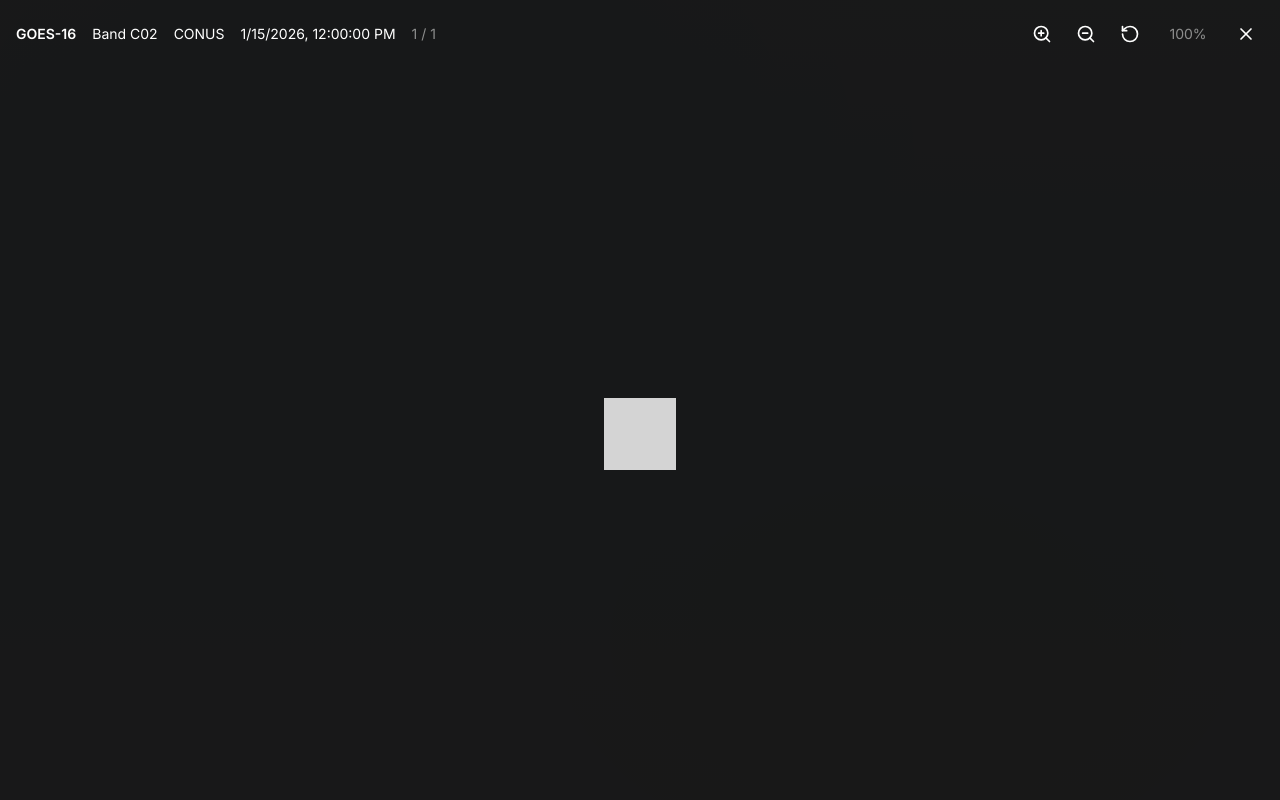
Scenario: ImageViewer navigation integration › zoom controls update the displayed zoom percentage
Expected: the text "100%" is shown, [1169,25,1206,42]
Note: Click zoom in
Click the button named "Zoom in": (1042, 34) [1024,16,1060,52]
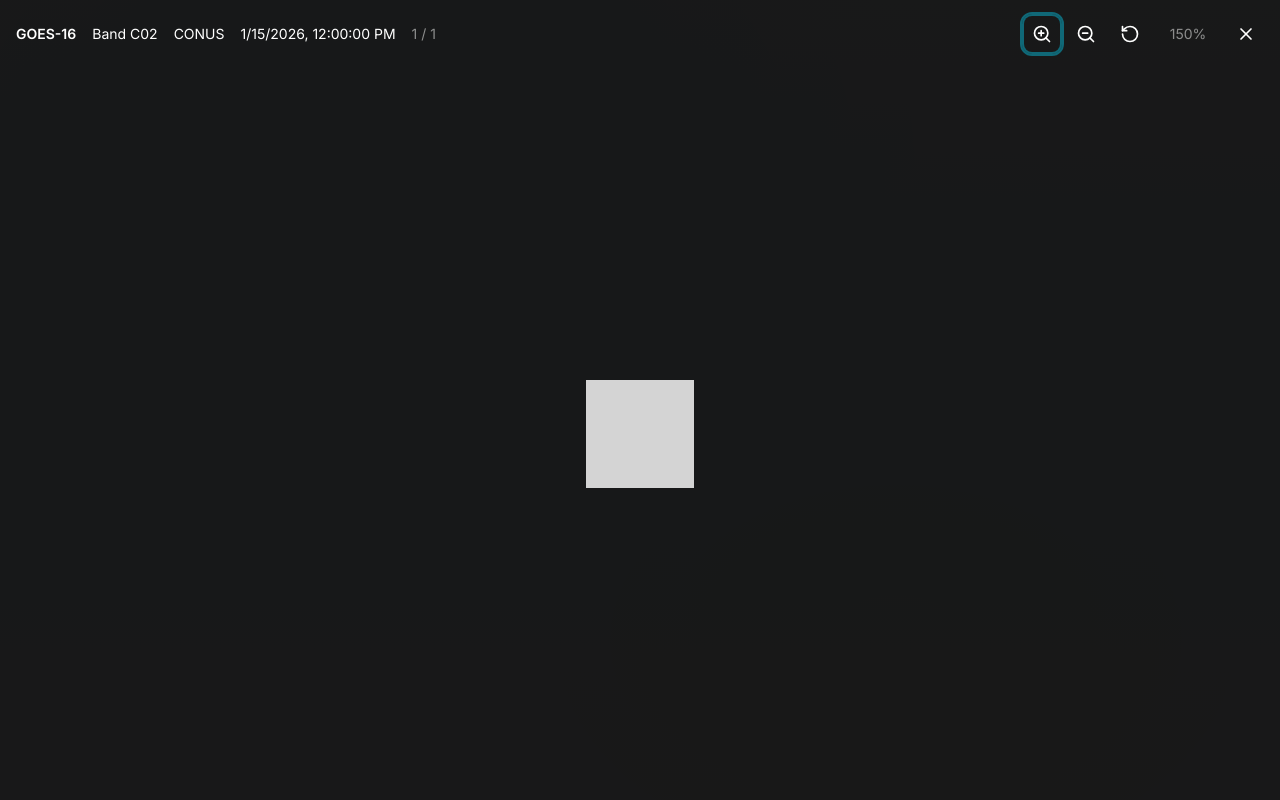
Expected: the text "150%" is shown, [1170,25,1206,42]
Note: Click zoom out
Click the button named "Zoom out": (1086, 34) [1068,16,1104,52]
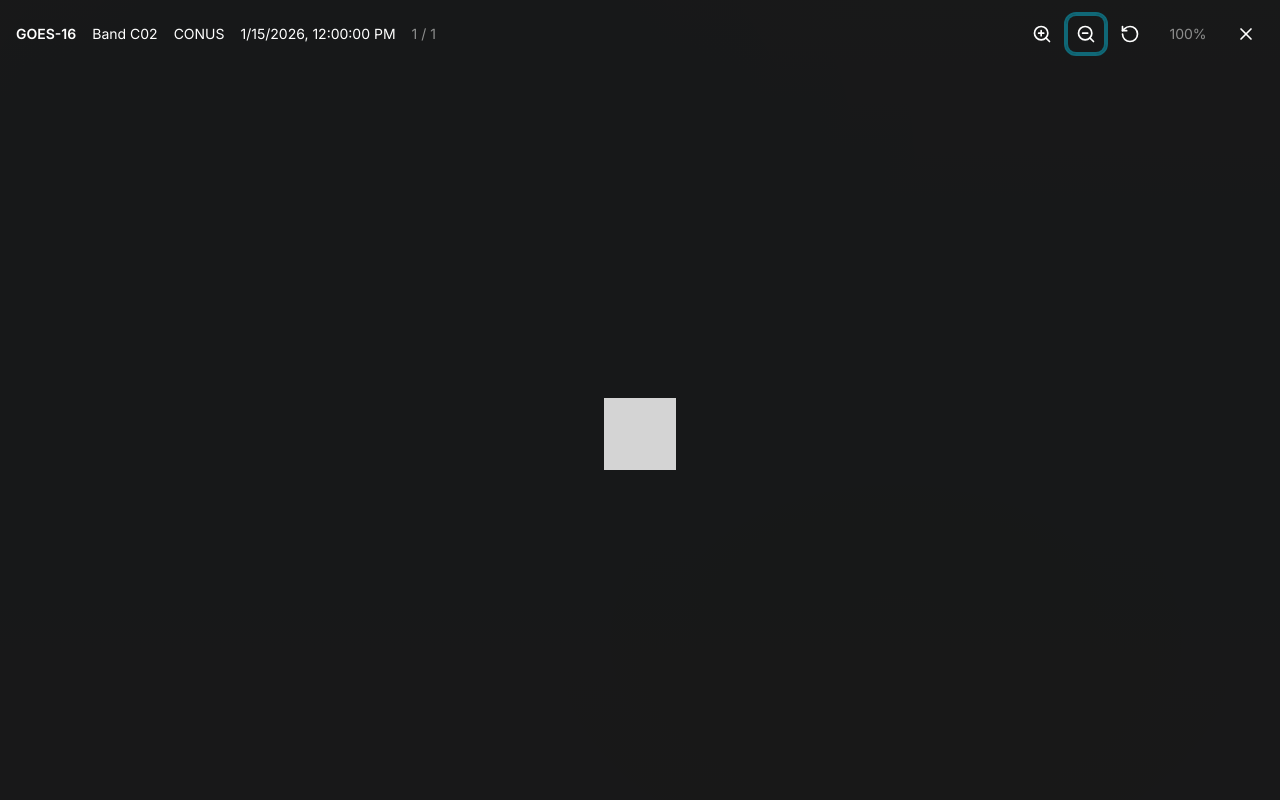
Expected: the text "100%" is shown, [1169,25,1206,42]
Note: Click reset
Click the button named "Zoom in": (1042, 34) [1024,16,1060,52]
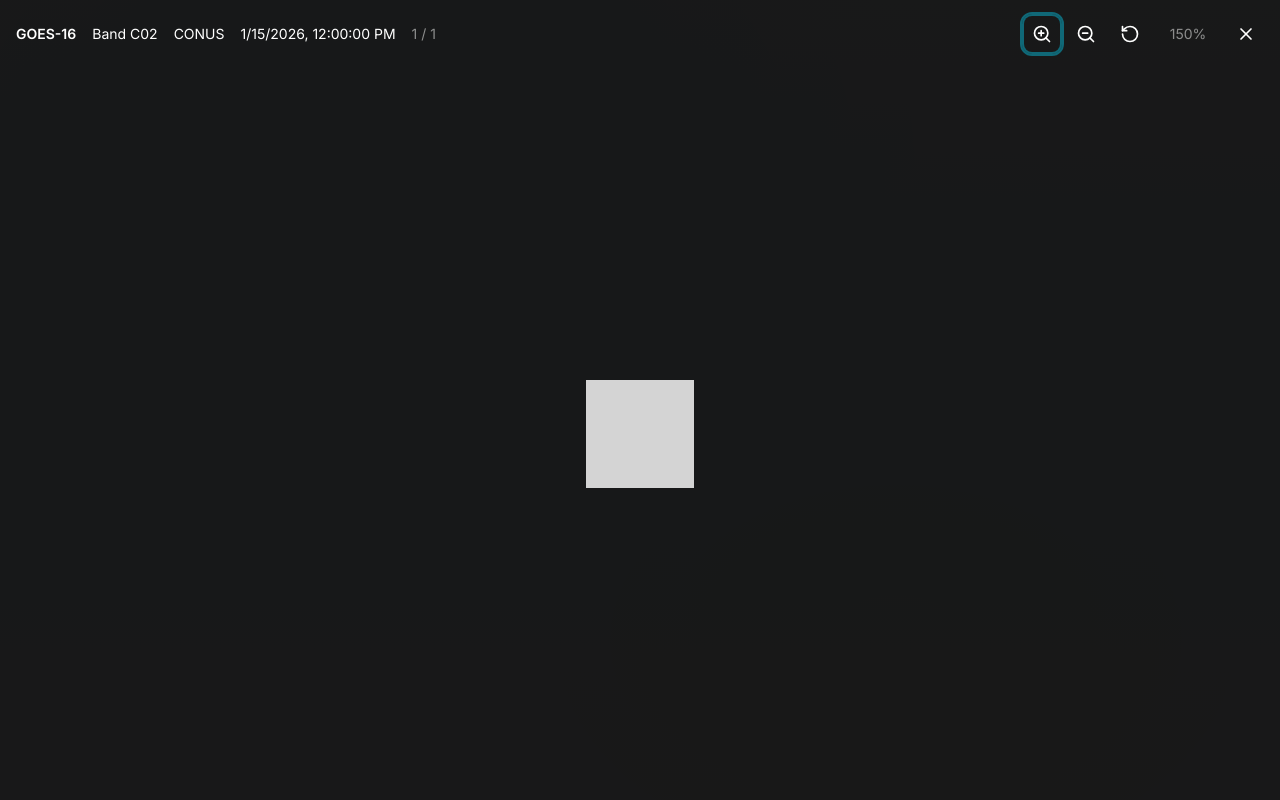
Click the button named "Zoom in": (1042, 34) [1024,16,1060,52]
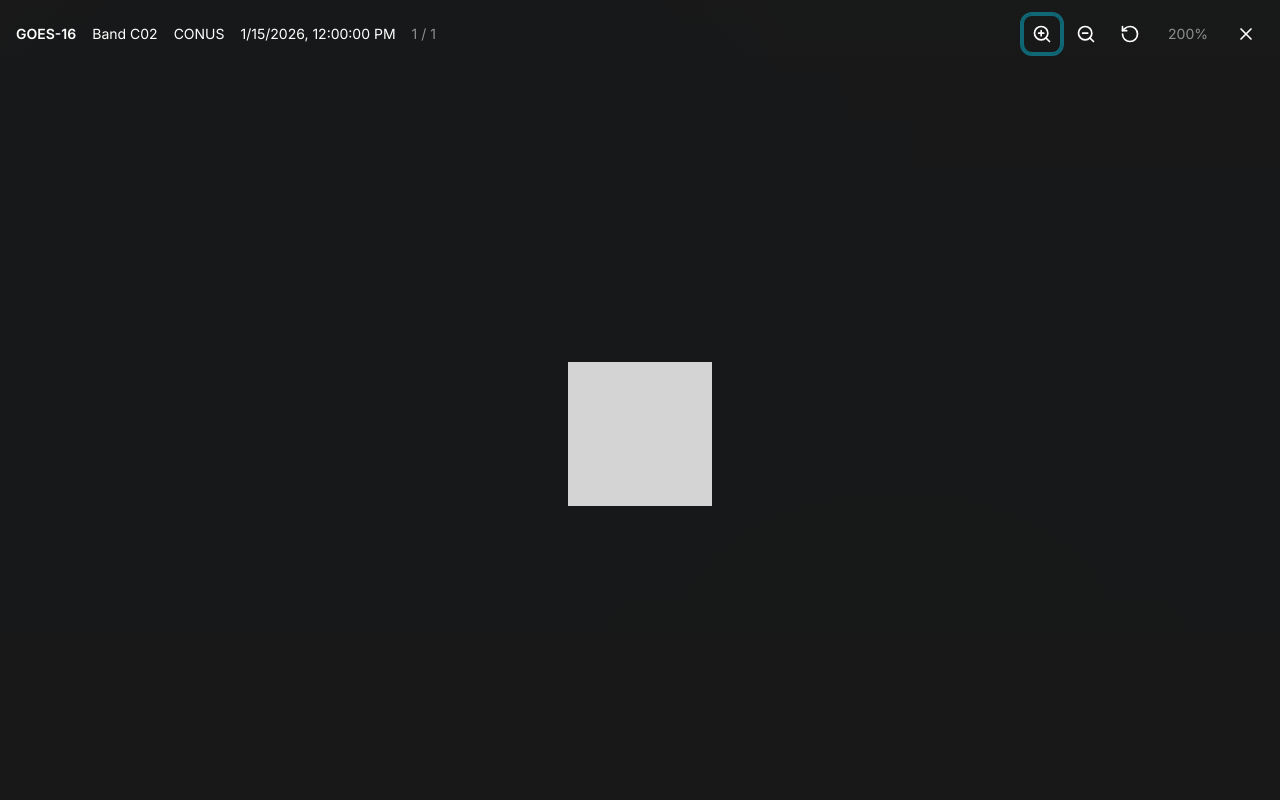
Click the button named "Reset zoom": (1130, 34) [1112,16,1148,52]
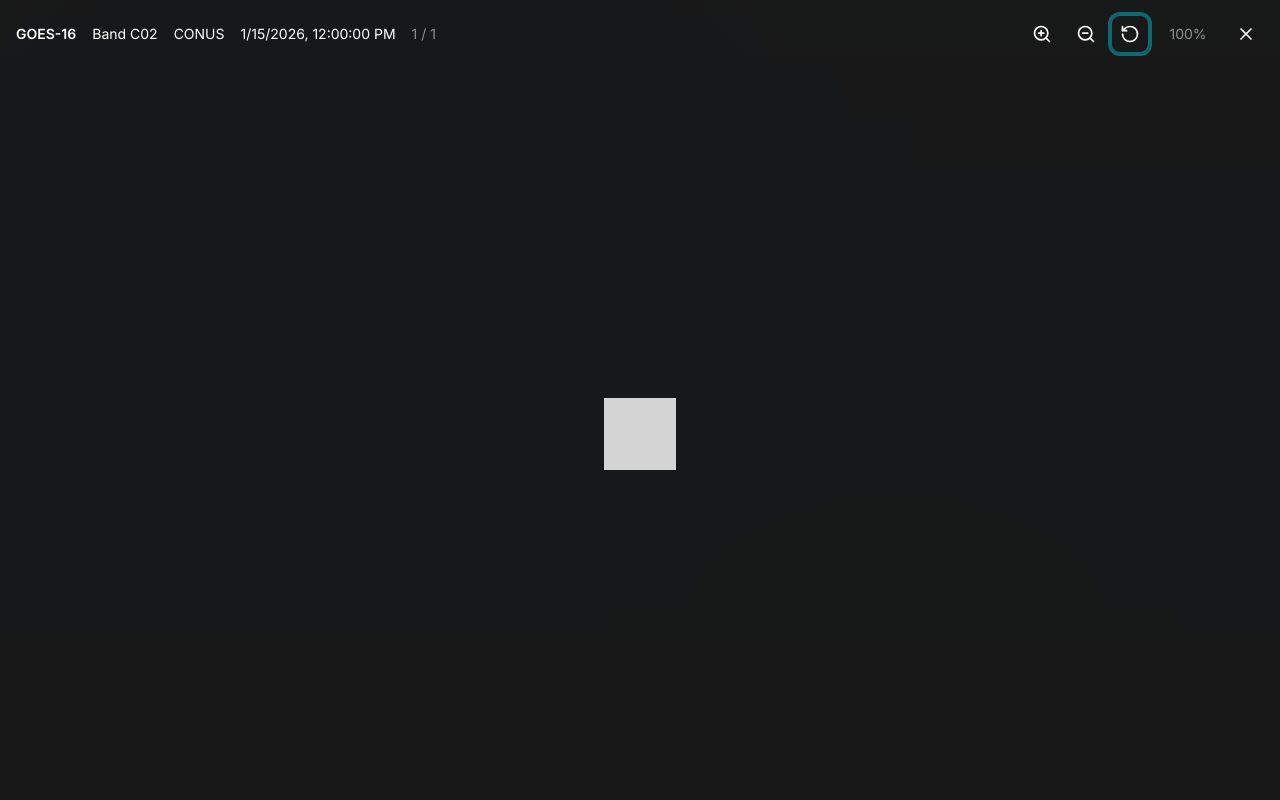
Expected: the text "100%" is shown, [1169,25,1206,42]
